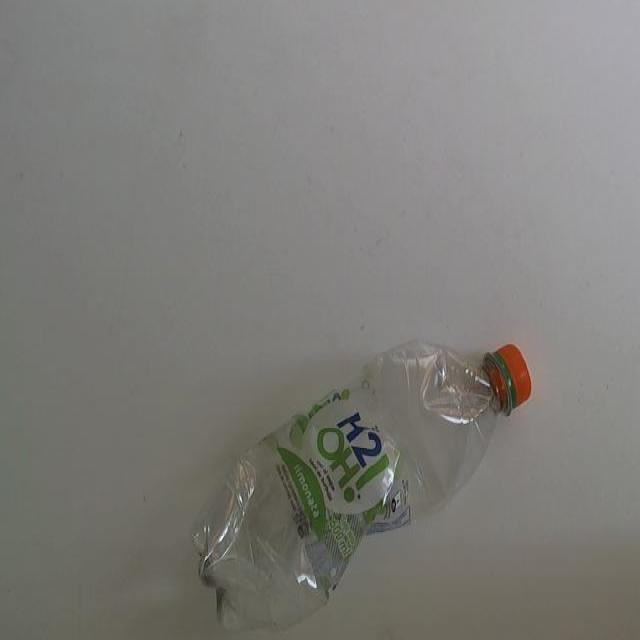defect: (187, 334, 534, 640)
